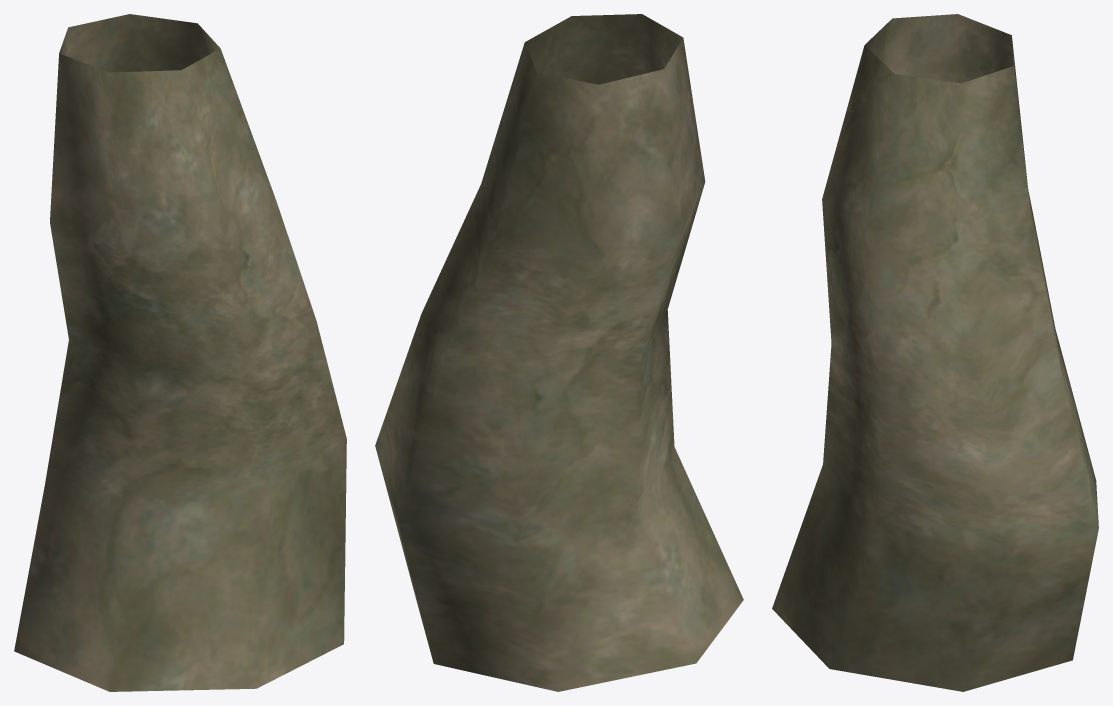
Rendered from EKH_GROTTO_PS_GR_OBJECT98.fbx.
The picture shows the model from 3 angles, left to right: view 1: azimuth 30°, elevation 25°; view 2: azimuth 150°, elevation 25°; view 3: azimuth 270°, elevation 25°; orthographic projection. The views are drawn at different scales.
Visible parts, largest first — view 1: EKH_GROTTO_PS_GR_OBJECT98; view 2: EKH_GROTTO_PS_GR_OBJECT98; view 3: EKH_GROTTO_PS_GR_OBJECT98.
Part boxes in pixels (x1=…): EKH_GROTTO_PS_GR_OBJECT98: x1=14, y1=14, x2=346, y2=691; EKH_GROTTO_PS_GR_OBJECT98: x1=375, y1=14, x2=743, y2=691; EKH_GROTTO_PS_GR_OBJECT98: x1=772, y1=14, x2=1098, y2=691.
Bounding box in the file's own units: 26126 × 48903 × 25447.
1 material, 1 textured.
